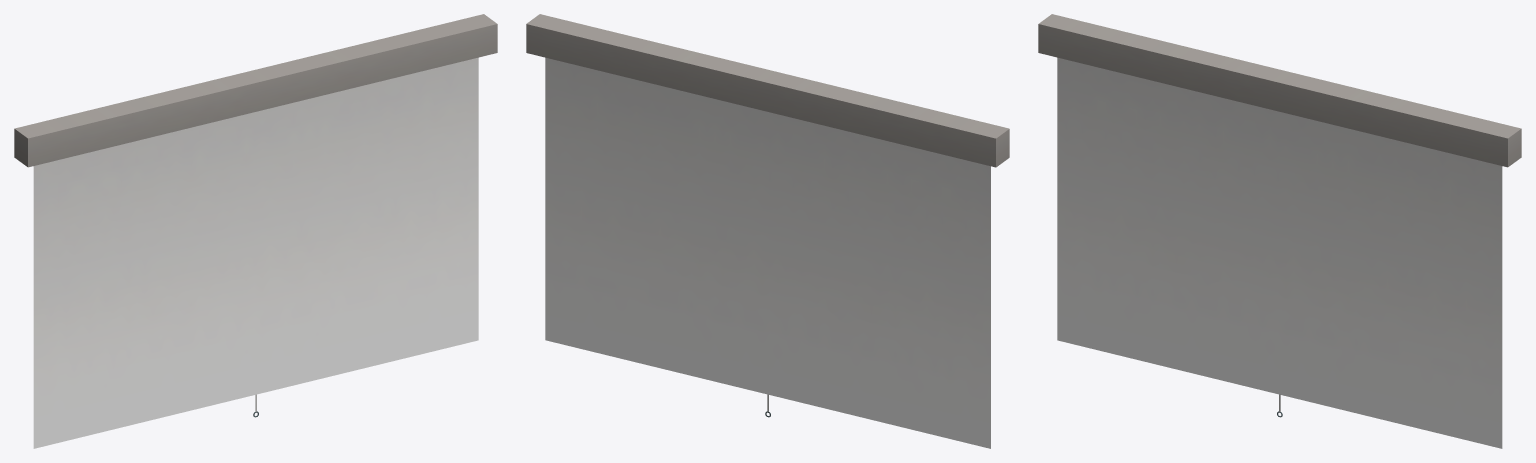
Rendered from ProjectorScreen.fbx.
The picture shows the model from 3 angles, left to right: view 1: azimuth 30°, elevation 25°; view 2: azimuth 150°, elevation 25°; view 3: azimuth 330°, elevation 25°; orthographic projection.
Visible parts, largest first — view 1: ProjectorScreen; view 2: ProjectorScreen; view 3: ProjectorScreen.
Boxes of the visible parts, <box> form: ProjectorScreen: <box>14,14,497,448</box>; ProjectorScreen: <box>526,14,1009,448</box>; ProjectorScreen: <box>1038,14,1521,448</box>.
Bounding box in the file's own units: 295 × 205 × 14.86.
